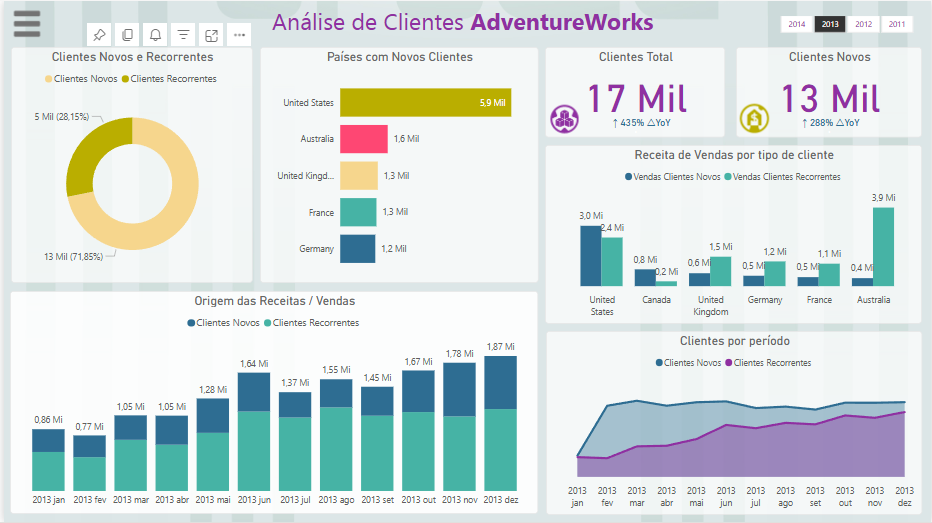

What the dashboard file says about the page in this screenshot:
{"tool":"powerbi","page":{"name":"Clientes AdventureWorks","canvas":[1280,720],"ordinal":0},"visuals":[{"type":"slicer","fields":{"Values":["DimDate.CalendarYear"]},"box":[1047.3,13.6,232.7,36.4],"z":0},{"type":"clusteredColumnChart","title":"Receita de Vendas por tipo de cliente","fields":{"Category":["DimGeography.EnglishCountryRegionName"],"Y":["#Measures.Vendas Clientes Novos","#Measures.Vendas Clientes Recorrentes"]},"box":[748.2,199.1,520.9,247.3],"z":1000},{"type":"card","title":"Clientes Novos","fields":{"Values":["#Measures.Clientes Novos"]},"box":[1011.8,63.6,257.3,125.5],"z":2000},{"type":"card","title":"Clientes Total","fields":{"Values":["#Measures.Clientes"]},"box":[748.2,63.6,249.1,125.5],"z":3000},{"type":"card","fields":{"Values":["#Measures.Clientes Novos LY Delta % txt"]},"box":[1062.3,149,159.6,39.9],"z":4000},{"type":"card","fields":{"Values":["#Measures.Clientes LY Delta % txt"]},"box":[799.8,149,162.3,39.9],"z":5000},{"type":"donutChart","title":"Clientes Novos e Recorrentes","fields":{"Y":["#Measures.Clientes Novos","#Measures.Clientes - novos"]},"box":[9.1,63.6,333.6,326.4],"z":6000},{"type":"clusteredBarChart","title":"Países com Novos Clientes","fields":{"Y":["#Measures.Clientes Novos"],"Category":["DimGeography.EnglishCountryRegionName"]},"box":[353.6,63.6,384.5,326.4],"z":7000},{"type":"columnChart","title":"Origem das Receitas / Vendas","fields":{"Category":["DimDate.YearMonthDesc"],"Y":["#Measures.Vendas Clientes Novos","#Measures.Vendas Clientes Recorrentes"]},"box":[8.9,400.8,729.8,307.7],"z":8000},{"type":"areaChart","title":"Clientes por período","fields":{"Category":["DimDate.YearMonthDesc"],"Y":["#Measures.Clientes Novos","#Measures.Clientes Recorrentes"]},"box":[749.1,455.5,520,253.6],"z":9000},{"type":"textbox","box":[344,0,579.9,63.8],"z":10000},{"type":"image","box":[749.1,138.2,50.9,50],"z":11000},{"type":"image","box":[1011.8,137.3,50.9,50.9],"z":12000},{"type":"image","box":[8.9,7.1,47,49.7],"z":13000},{"type":"actionButton","box":[0,0,63,63.8],"z":14000}]}

Visuals, with their boxes on the page's 1280x720 design canvas (x1, y1, x2, y2). These are canvas units, not pixel positions in the 932x523 screenshot, which may show the page scaled, cropped or inside an application window:
slicer - DimDate.CalendarYear: {"x1": 1047, "y1": 14, "x2": 1280, "y2": 50}
"Receita de Vendas por tipo de cliente" clusteredColumnChart: {"x1": 748, "y1": 199, "x2": 1269, "y2": 446}
"Clientes Novos" card: {"x1": 1012, "y1": 64, "x2": 1269, "y2": 189}
"Clientes Total" card: {"x1": 748, "y1": 64, "x2": 997, "y2": 189}
card - #Measures.Clientes Novos LY Delta % txt: {"x1": 1062, "y1": 149, "x2": 1222, "y2": 189}
card - #Measures.Clientes LY Delta % txt: {"x1": 800, "y1": 149, "x2": 962, "y2": 189}
"Clientes Novos e Recorrentes" donutChart: {"x1": 9, "y1": 64, "x2": 343, "y2": 390}
"Países com Novos Clientes" clusteredBarChart: {"x1": 354, "y1": 64, "x2": 738, "y2": 390}
"Origem das Receitas / Vendas" columnChart: {"x1": 9, "y1": 401, "x2": 739, "y2": 708}
"Clientes por período" areaChart: {"x1": 749, "y1": 456, "x2": 1269, "y2": 709}
textbox: {"x1": 344, "y1": 0, "x2": 924, "y2": 64}
image: {"x1": 749, "y1": 138, "x2": 800, "y2": 188}
image: {"x1": 1012, "y1": 137, "x2": 1063, "y2": 188}
image: {"x1": 9, "y1": 7, "x2": 56, "y2": 57}
actionButton: {"x1": 0, "y1": 0, "x2": 63, "y2": 64}
